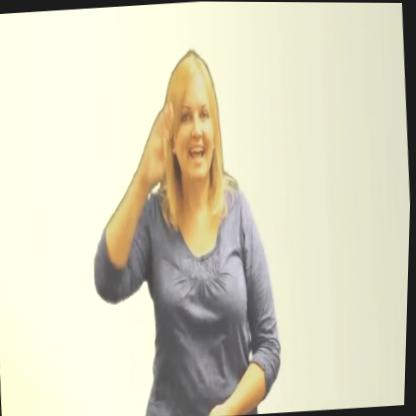Hello: (119, 31, 231, 222)
